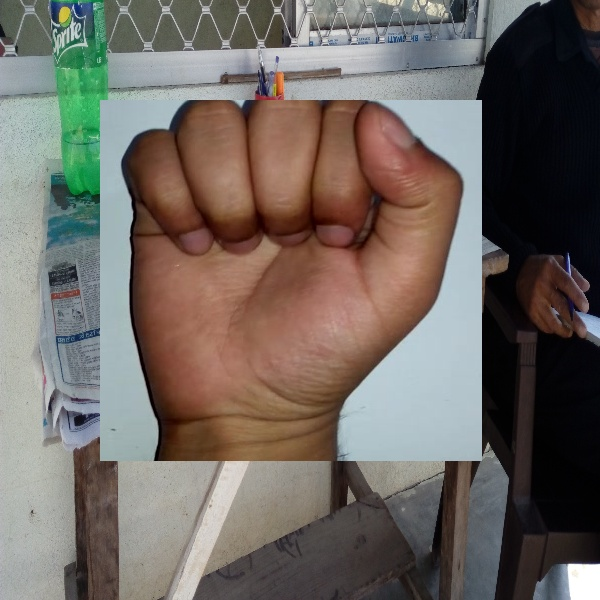A: (100, 100, 482, 461)
